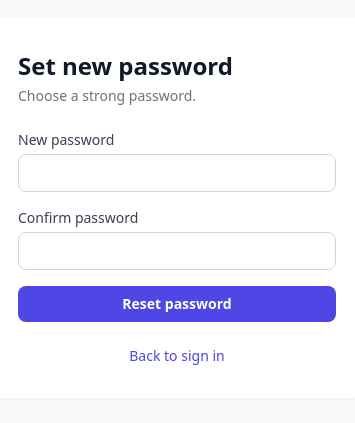
Test case: ResetPasswordPage › shows error message on API failure
Type "ValidPass1" into the password field labelled "New password" at (177, 173), box [18, 154, 336, 192]
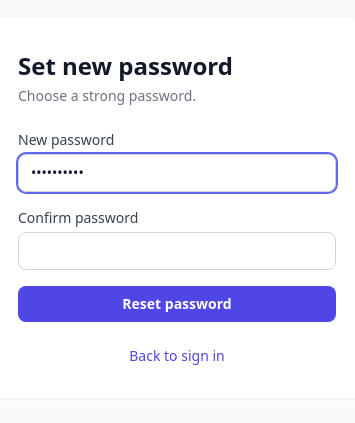
Type "ValidPass1" into the password field labelled "Confirm password" at (177, 251), box [18, 232, 336, 270]
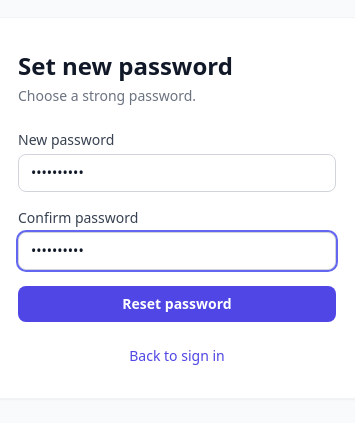
Click the button "Reset password" at (177, 304), box [18, 286, 336, 322]
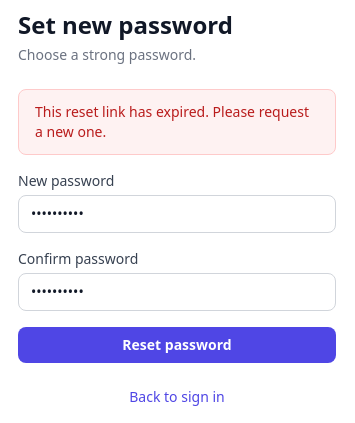
Expected: the text "This reset link has expired. Please request a new one." is shown, [18, 89, 336, 155]
